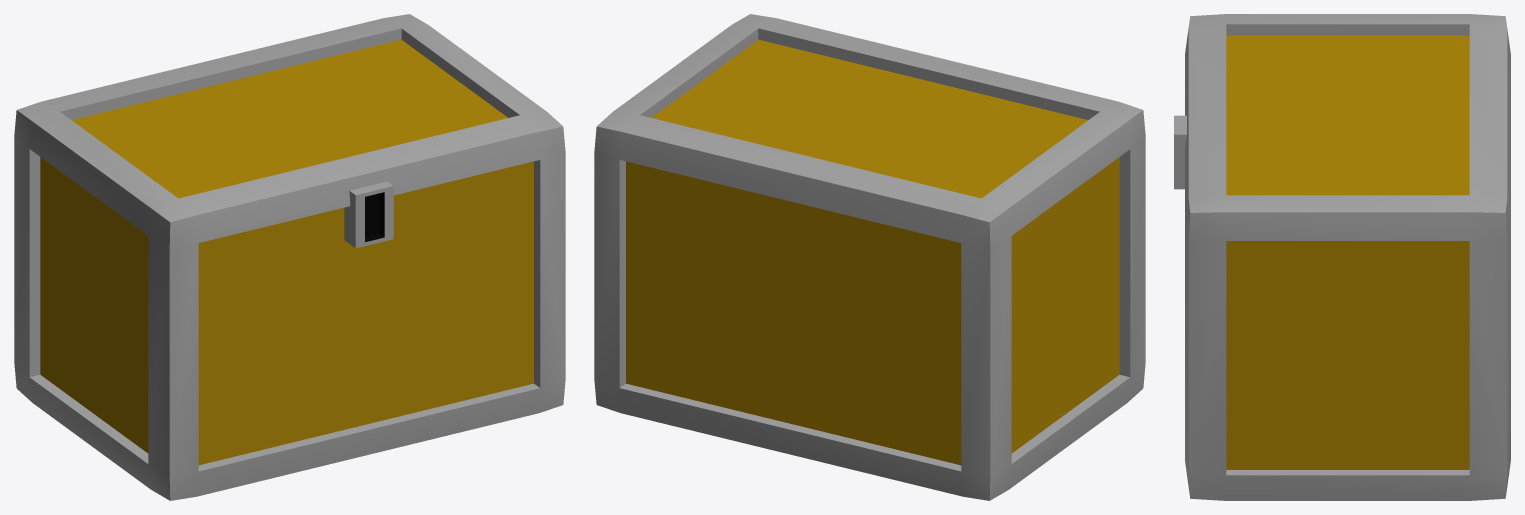
The model's file is Chest_Normal.fbx.
3 renders of one model, left to right at view 1: azimuth 30°, elevation 25°; view 2: azimuth 150°, elevation 25°; view 3: azimuth 270°, elevation 25°, orthographic. The views are drawn at different scales.
Parts seen in each view (by area): view 1: pCube19; view 2: pCube19; view 3: pCube19.
Part boxes in pixels (x1,y1,x2,y2): pCube19: (14,14,565,500); pCube19: (594,14,1145,500); pCube19: (1174,14,1510,500).
Size of the model in its own units: 15.85 by 10.85 by 11.21.
